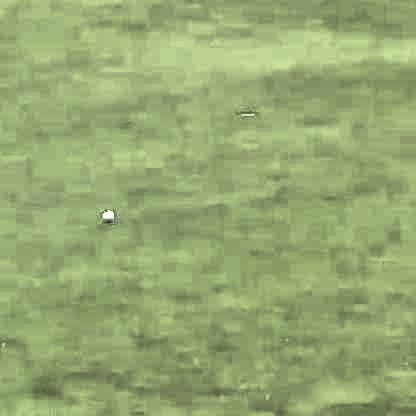golfball: (98, 207, 113, 222)
